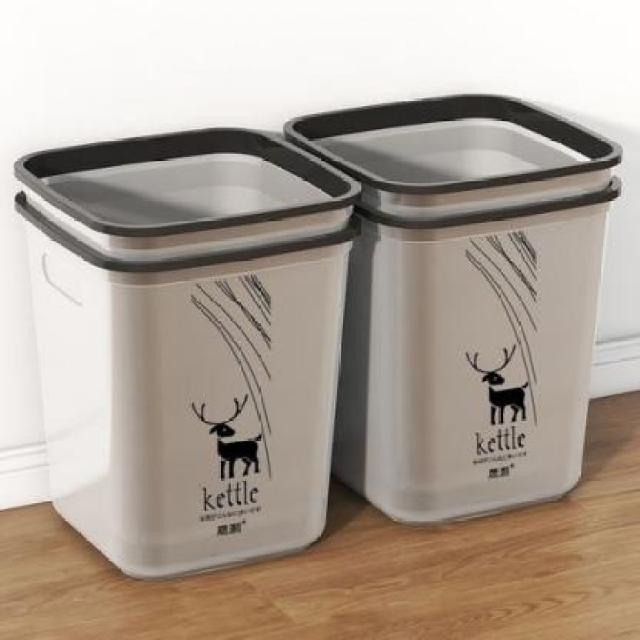dustbin: (9, 118, 364, 584), (282, 85, 628, 529)
